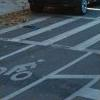Crosswalk: (11, 15, 100, 71)
